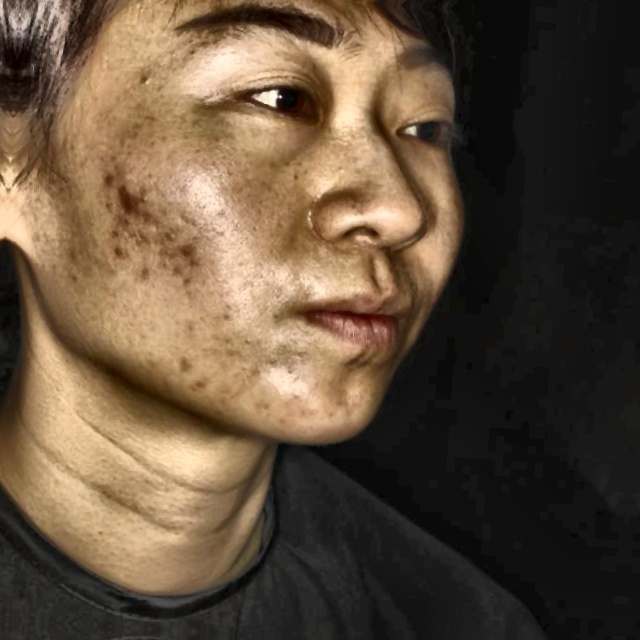comedone: (101, 168, 137, 219), (99, 237, 131, 269), (168, 235, 194, 268)
